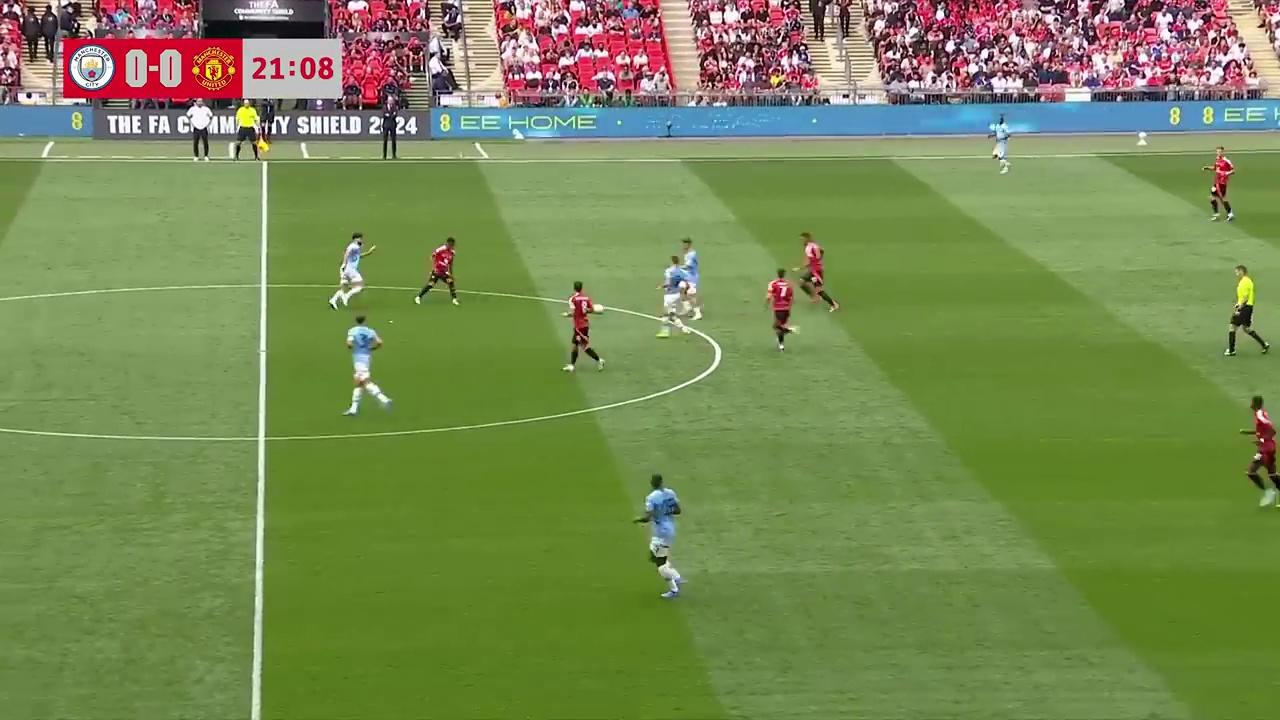ball: (676, 277, 690, 292)
player: (632, 473, 682, 597), (343, 312, 393, 417), (1241, 395, 1280, 508), (562, 282, 604, 372), (329, 232, 374, 311), (798, 233, 838, 313), (414, 236, 459, 306), (655, 260, 693, 337), (764, 268, 796, 350), (1206, 154, 1234, 222), (679, 237, 702, 310), (990, 113, 1010, 173)
referee: (1223, 264, 1270, 356), (231, 100, 261, 162)
